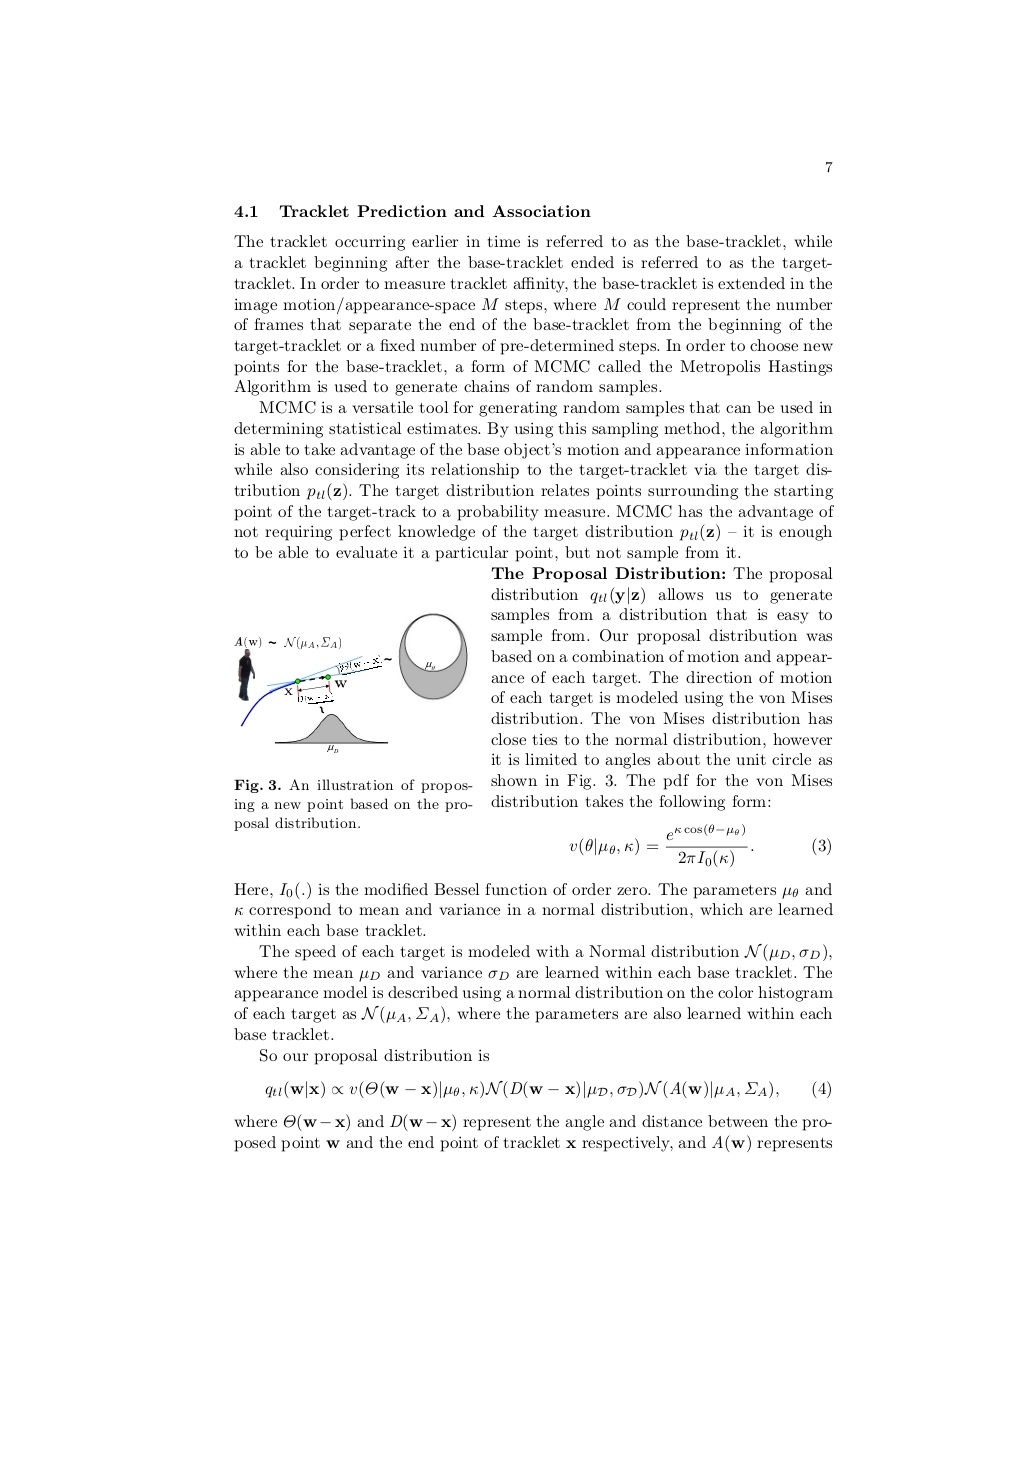figure: (235, 613, 467, 752)
formula: (568, 824, 830, 867), (265, 1079, 830, 1100)
